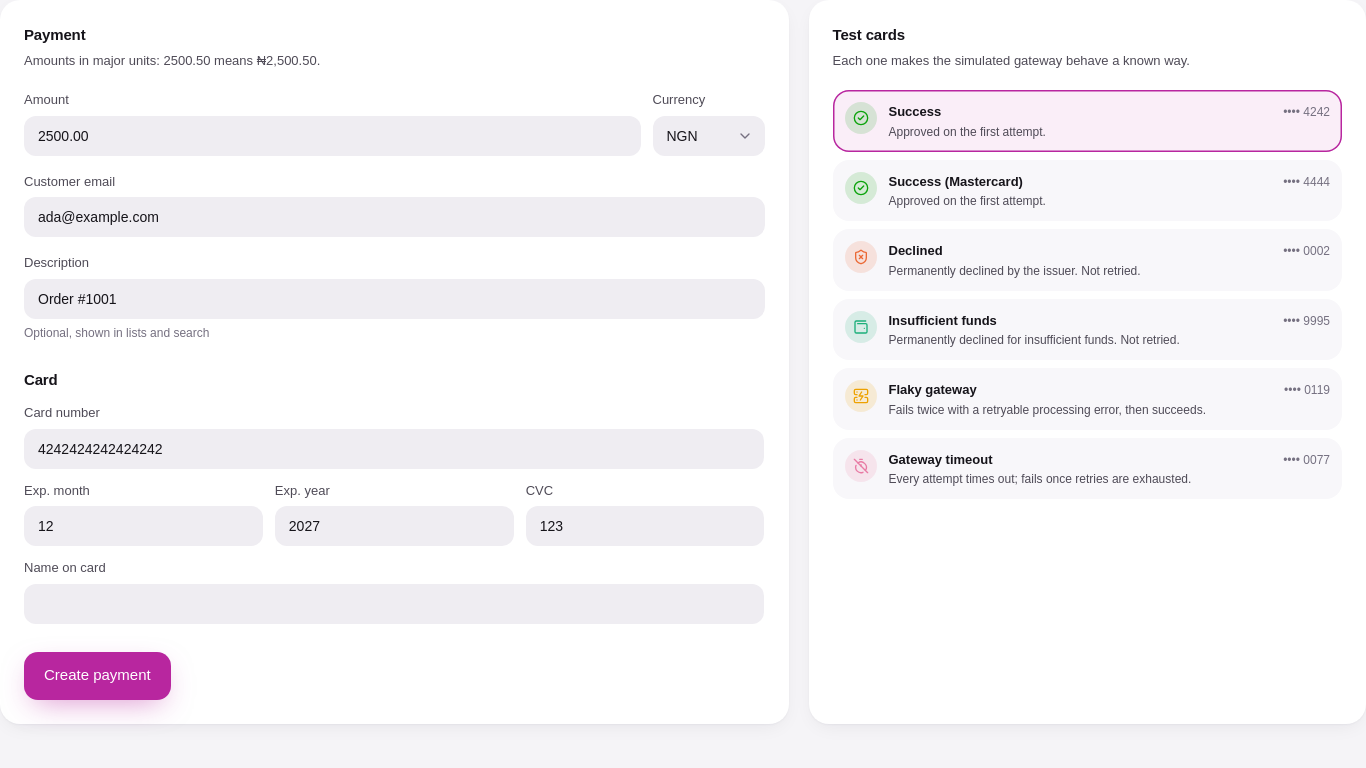
Test: CreatePaymentForm › fills the card number from the test-card picker
The image size is (1366, 768).
Click the radio button labelled "Declined".
click(860, 257)  # box [832,229,1342,290]
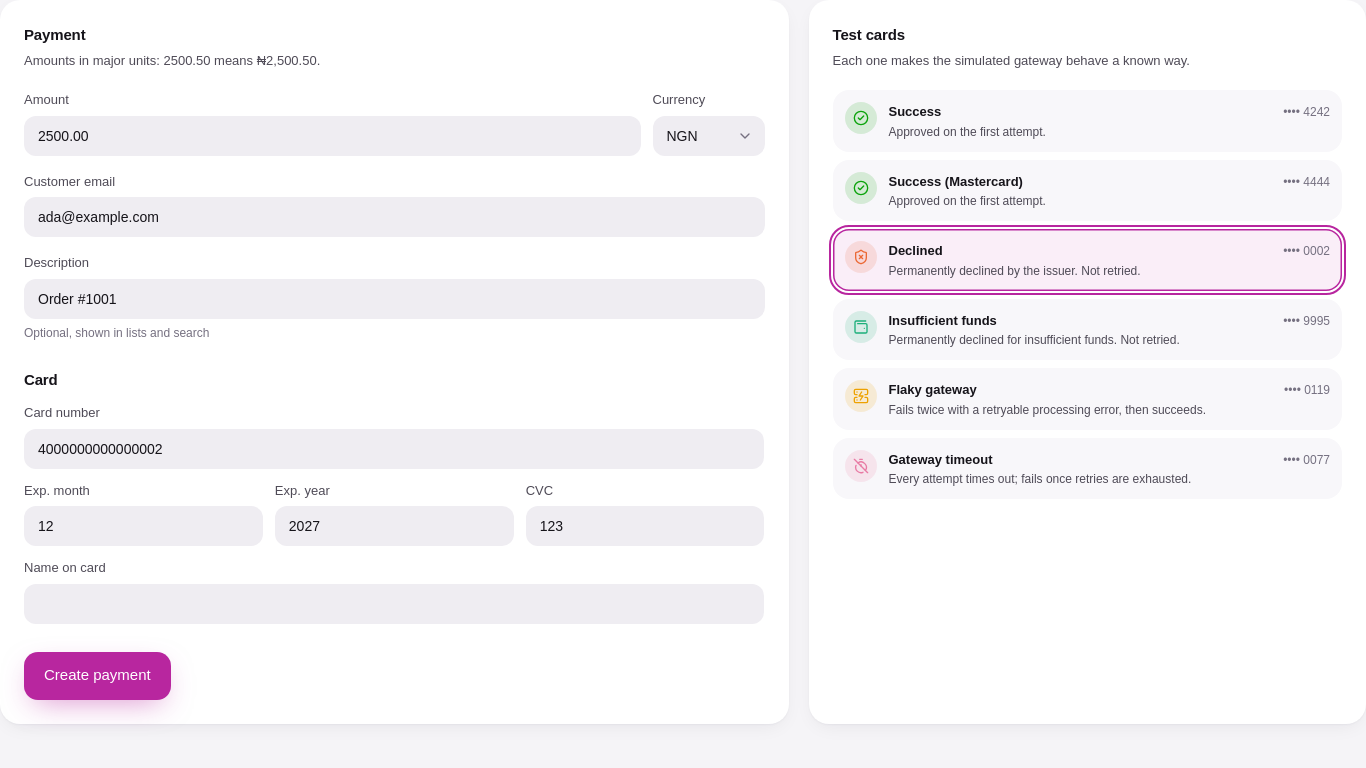
Now the field labelled "Card number" holds "4000000000000002", box [24,428,764,468]
